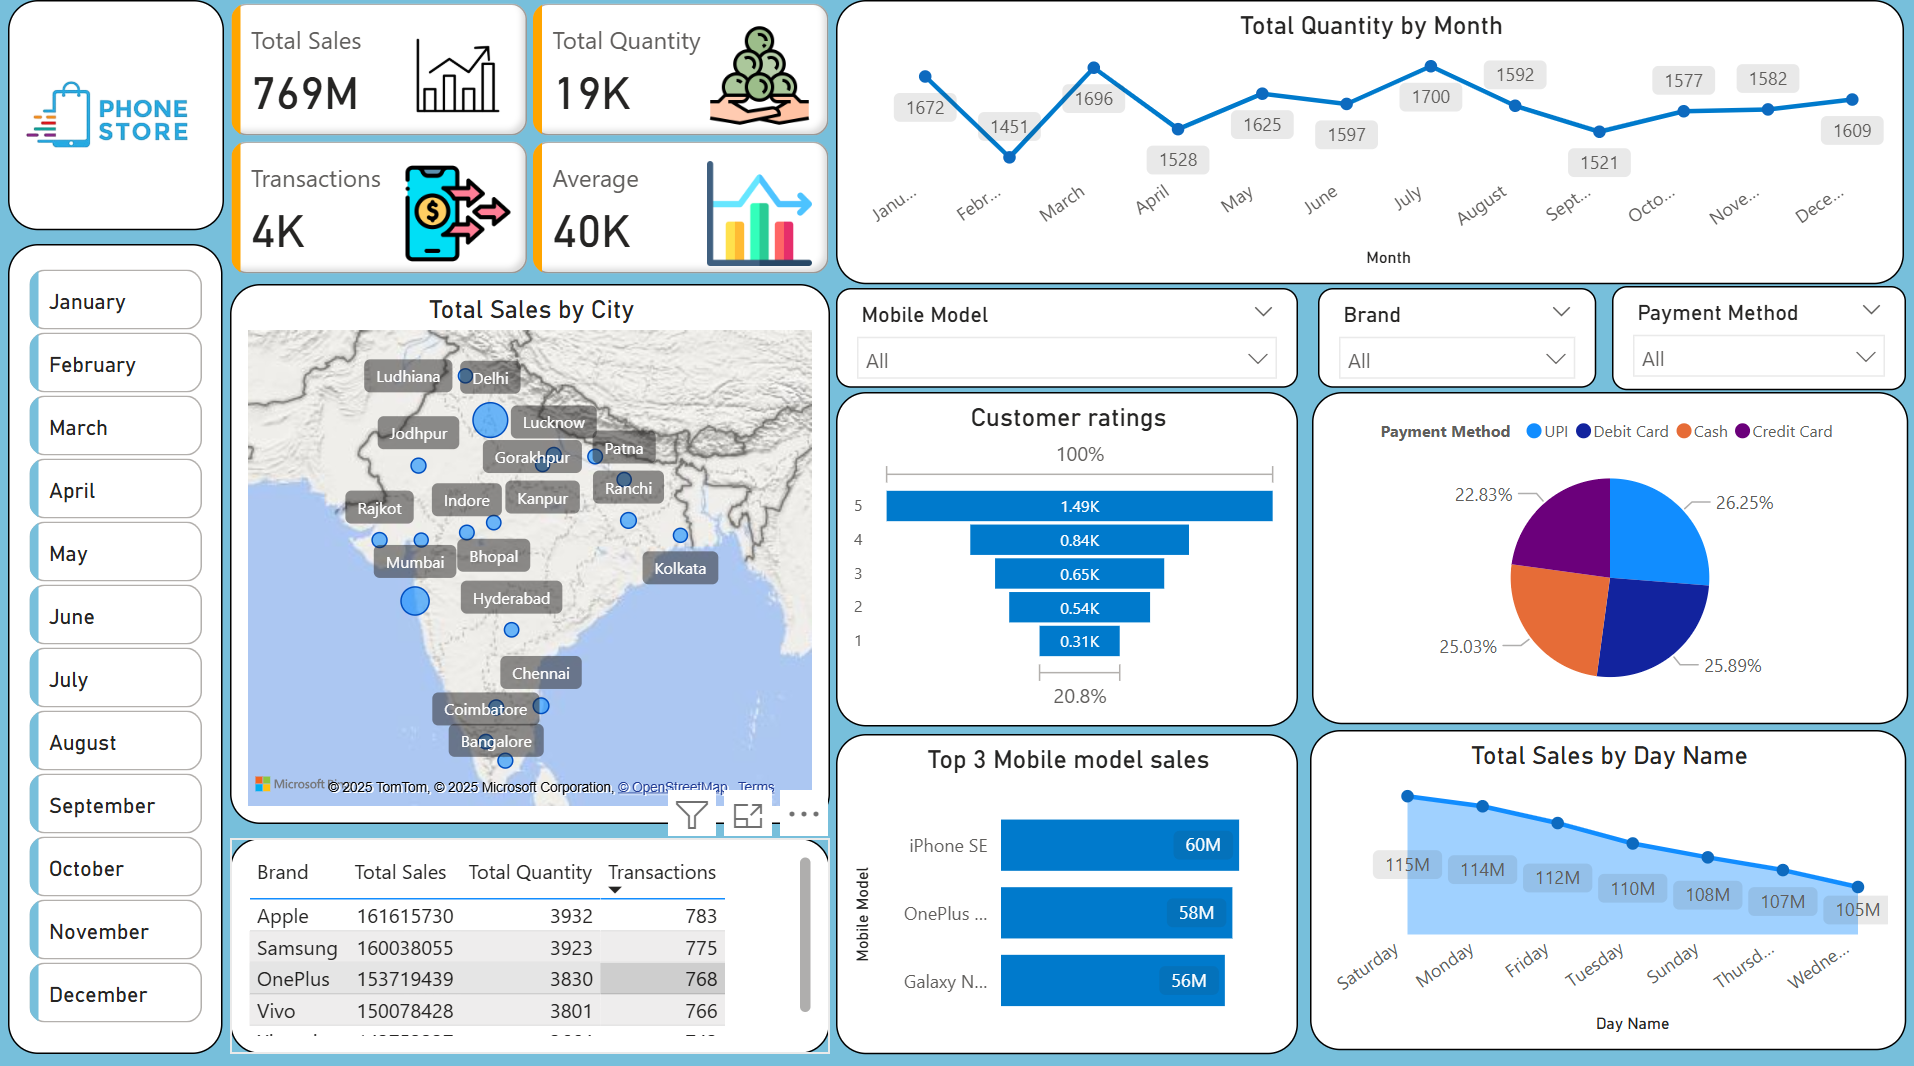

What the dashboard file says about the page in this screenshot:
{"tool":"powerbi","page":{"name":"Page 1","canvas":[1280,720],"ordinal":0},"visuals":[{"type":"shape","box":[8,3,128,156],"z":0},{"type":"image","box":[0,0,129,173],"z":1000},{"type":"shape","box":[8,173.3,121.3,533.3],"z":2000},{"type":"cardVisual","fields":{"Data":["Sales_data.Total Sales","Sales_data.Total Quantity","Sales_data.Transactions","Sales_data.Average"]},"box":[136,0,417,192],"z":2500},{"type":"advancedSlicerVisual","fields":{"Values":["Sales_data.Date.Variation.Date Hierarchy.Month"]},"box":[9.3,192,112,510.7],"z":3000},{"type":"map","fields":{"Category":["Sales_data.City"],"Size":["Sales_data.Total Sales"]},"box":[136,195,417,373],"z":4000},{"type":"lineChart","fields":{"Y":["Sales_data.Total Quantity"],"Category":["Sales_data.Date.Variation.Date Hierarchy.Month","Sales_data.Date.Variation.Date Hierarchy.Day"]},"box":[560,3,712,189],"z":4500},{"type":"clusteredBarChart","title":"Top 3 Mobile model sales","fields":{"Category":["Sales_data.Mobile Model"],"Y":["Sales_data.Total Sales"]},"box":[559.7,492.1,308.5,223.1],"z":7000},{"type":"pieChart","fields":{"Category":["Sales_data.Payment Method"],"Y":["Sales_data.Transactions"]},"box":[877.1,263.9,397.8,223.1],"z":8000},{"type":"funnel","title":"Customer ratings","fields":{"Category":["Sales_data.Customer Ratings"],"Y":["CountNonNull(Sales_data.Customer Ratings)"]},"box":[559.7,263.9,308.5,225.7],"z":9000},{"type":"stackedAreaChart","fields":{"Category":["Sales_data.Day Name"],"Y":["Sales_data.Total Sales"]},"box":[877.1,489.6,397.8,225.7],"z":10000},{"type":"tableEx","fields":{"Values":["Sales_data.Brand","Sales_data.Total Sales","Sales_data.Total Quantity","Sales_data.Transactions"]},"box":[136,570.7,410.7,144],"z":11000},{"type":"slicer","fields":{"Values":["Sales_data.Mobile Model"]},"box":[560,194.7,308,66.7],"z":12000},{"type":"slicer","fields":{"Values":["Sales_data.Payment Method"]},"box":[1077.3,193.3,196,69.3],"z":13000},{"type":"slicer","fields":{"Values":["Sales_data.Brand"]},"box":[881.3,194.7,185.3,66.7],"z":14000}]}

Visuals, with their boxes in screenshot pixels (x1, y1, x2, y2), scaled from the page's 1280x720 canvas onto the 1914x1066 screenshot:
shape: bbox=(12, 4, 203, 235)
image: bbox=(0, 0, 193, 256)
shape: bbox=(12, 257, 193, 1046)
cardVisual - Sales_data.Total Sales x Sales_data.Total Quantity: bbox=(203, 0, 827, 284)
advancedSlicerVisual - Sales_data.Date.Variation.Date Hierarchy.Month: bbox=(14, 284, 181, 1040)
map - Sales_data.City x Sales_data.Total Sales: bbox=(203, 289, 827, 841)
lineChart - Sales_data.Total Quantity x Sales_data.Date.Variation.Date Hierarchy.Month: bbox=(837, 4, 1902, 284)
"Top 3 Mobile model sales" clusteredBarChart: bbox=(837, 729, 1298, 1059)
pieChart - Sales_data.Payment Method x Sales_data.Transactions: bbox=(1312, 391, 1906, 721)
"Customer ratings" funnel: bbox=(837, 391, 1298, 725)
stackedAreaChart - Sales_data.Day Name x Sales_data.Total Sales: bbox=(1312, 725, 1906, 1059)
tableEx - Sales_data.Brand x Sales_data.Total Sales: bbox=(203, 845, 817, 1058)
slicer - Sales_data.Mobile Model: bbox=(837, 288, 1298, 387)
slicer - Sales_data.Payment Method: bbox=(1611, 286, 1904, 389)
slicer - Sales_data.Brand: bbox=(1318, 288, 1595, 387)
